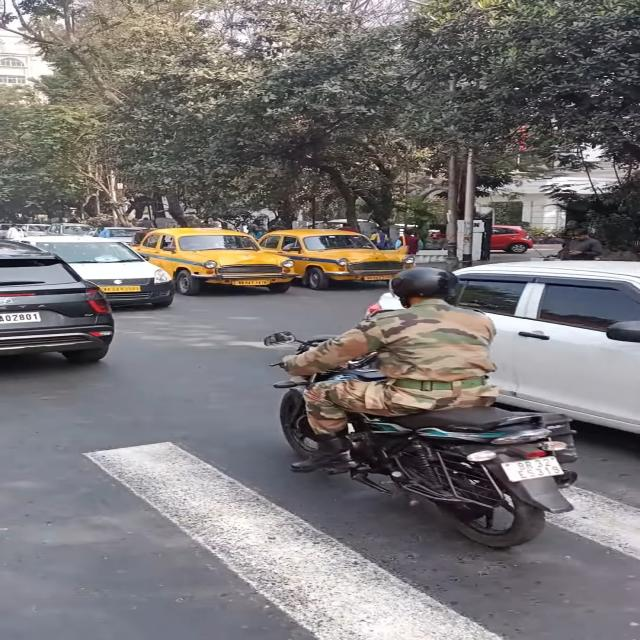Bike: (275, 334, 578, 562)
